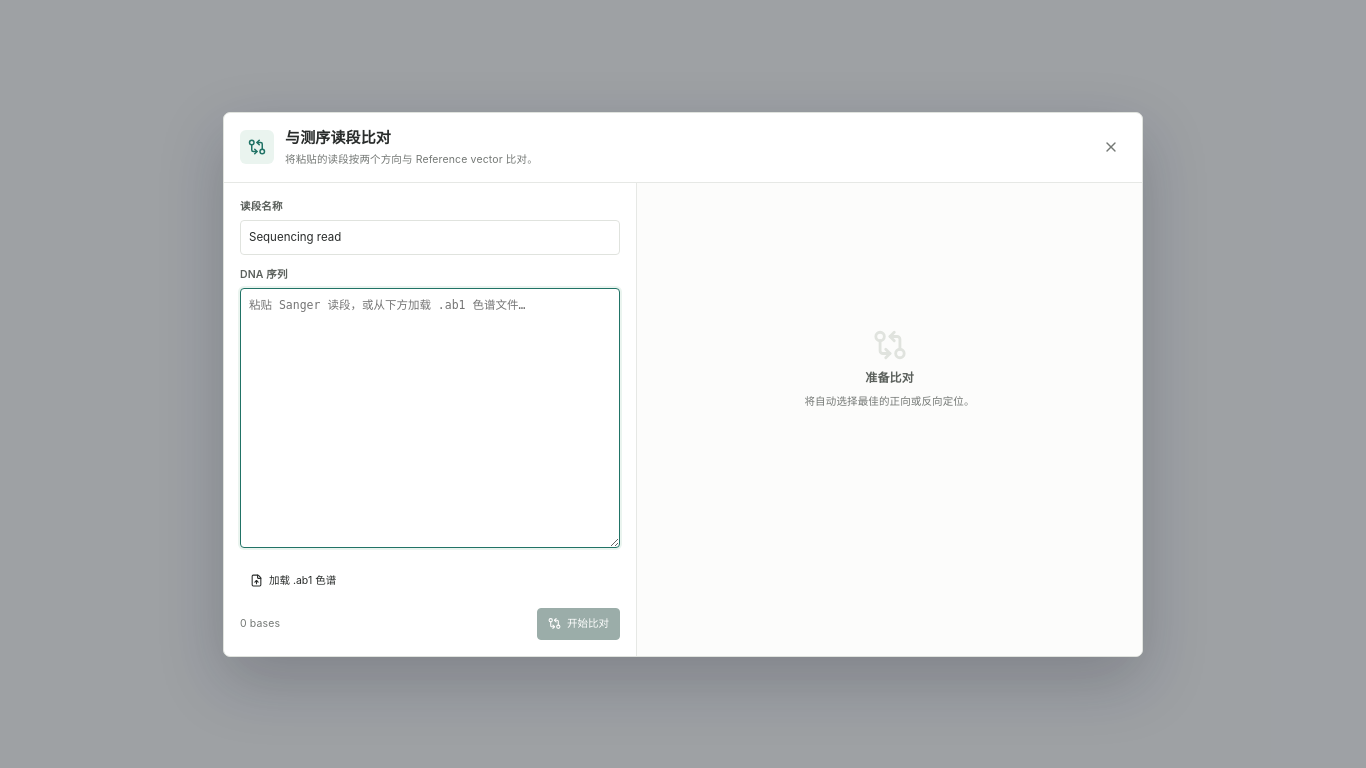
SequenceVerificationDialog › reports invalid pasted characters
Type "ATGC?" into the text box labelled "DNA 序列". click: [430, 418]
box: top-left (240, 288), bottom-right (620, 548)
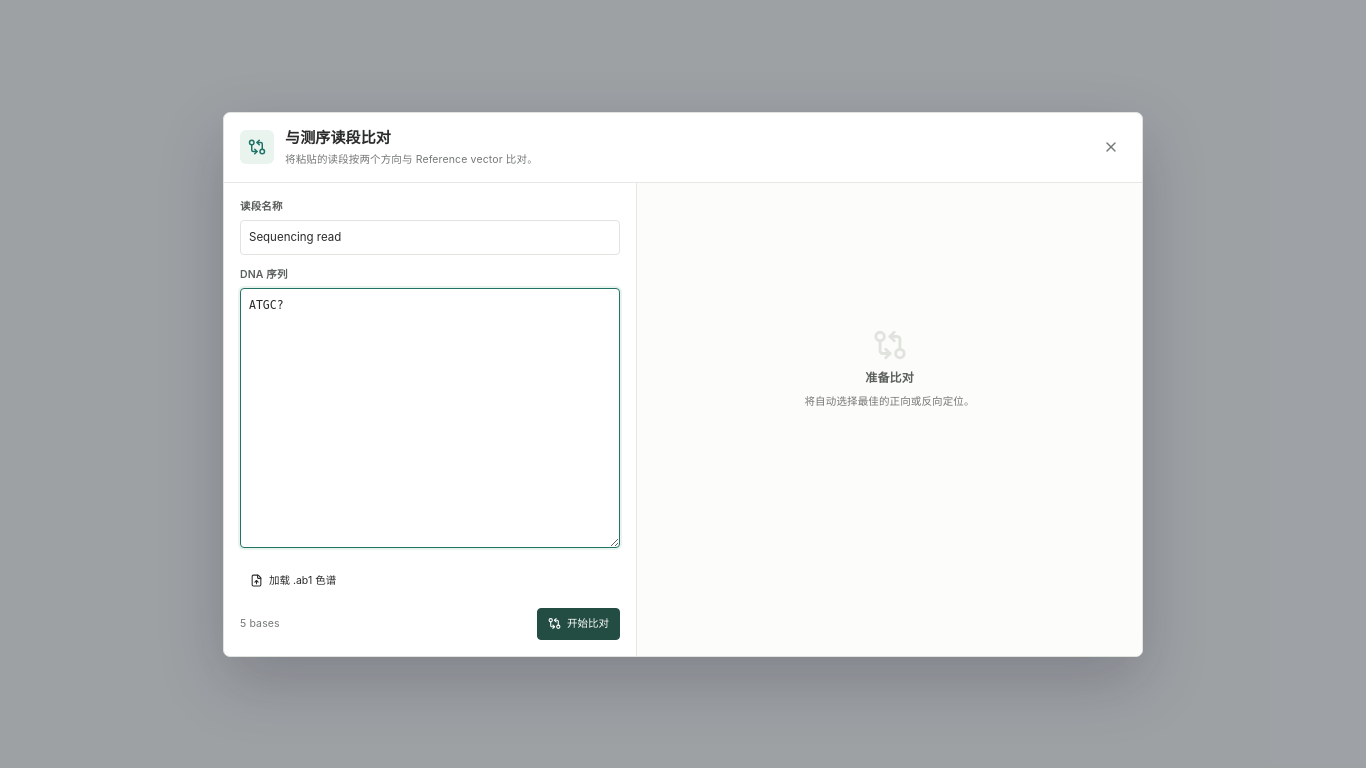
Click the button "开始比对". click: [579, 624]
box: top-left (537, 608), bottom-right (620, 640)
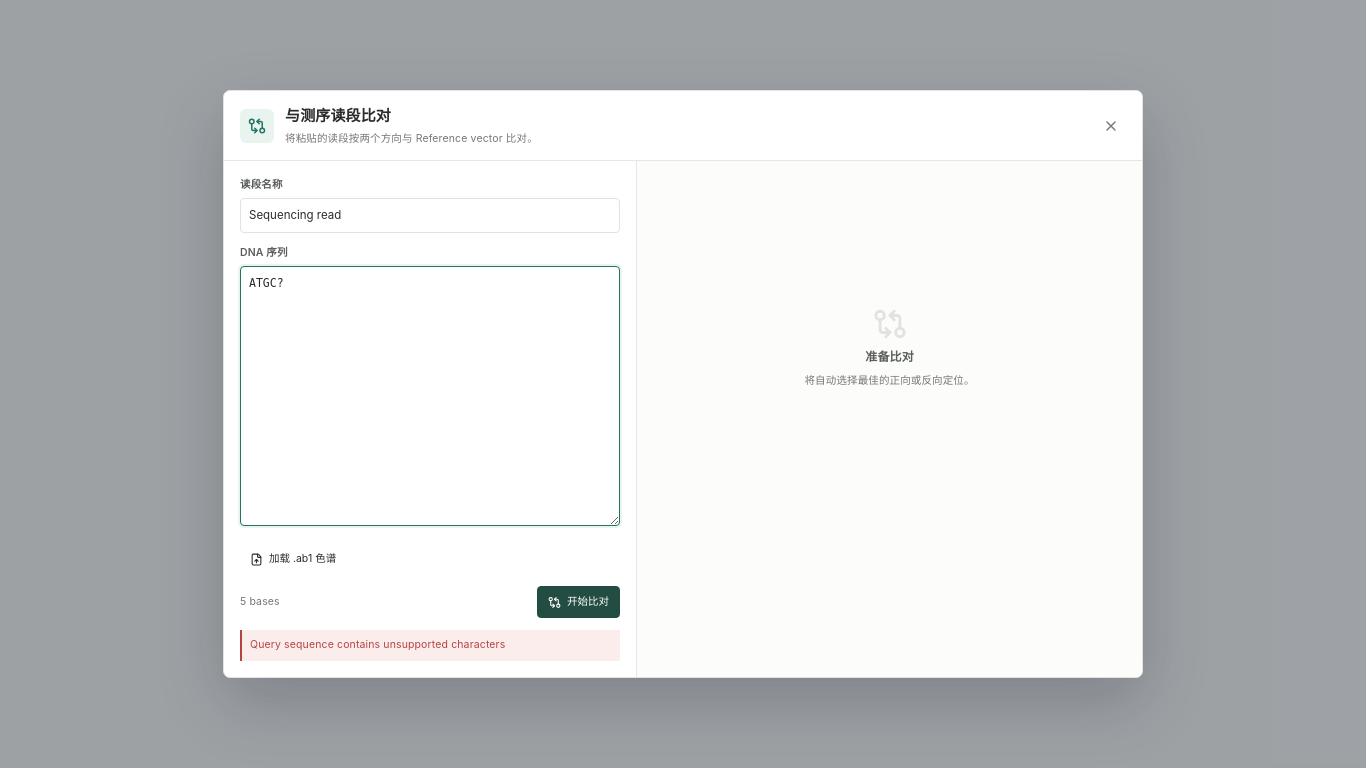
Check: the message shows "unsupported characters", box top-left (250, 638), bottom-right (505, 651)
